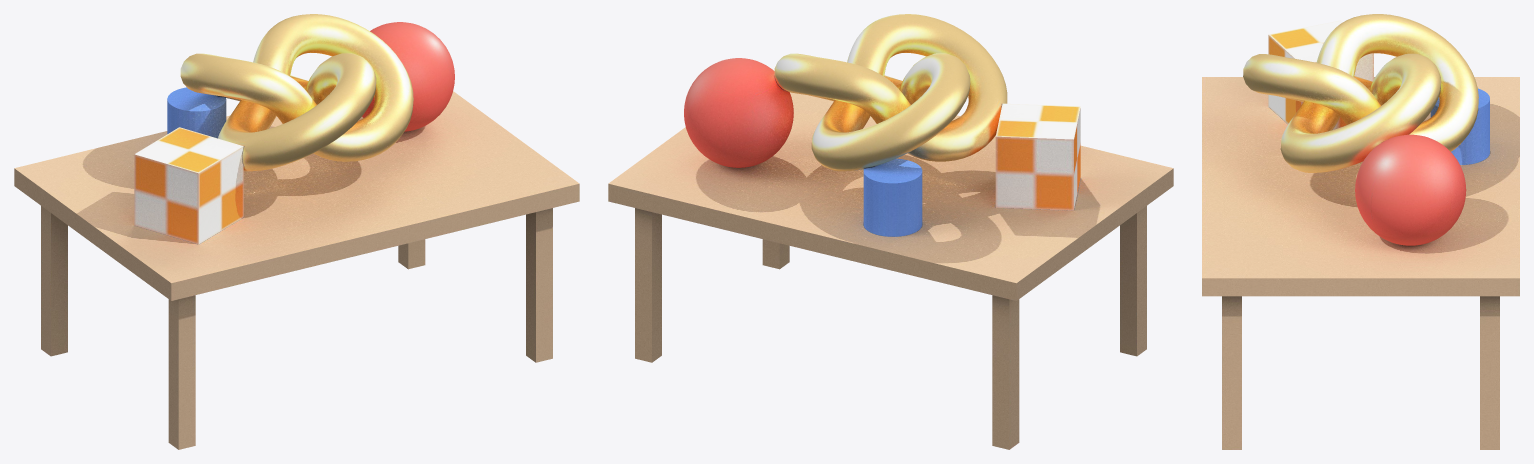
File: table-mitsuba.glb
3 views of the same model, side by side, from view 1: azimuth 30°, elevation 25°; view 2: azimuth 150°, elevation 25°; view 3: azimuth 270°, elevation 25° (orthographic).
Parts seen in each view (by area): view 1: Table_4, TorusKnot_3, CheckerCube_1, Sphere_2, Cylinder_0; view 2: Table_4, TorusKnot_3, Sphere_2, CheckerCube_1, Cylinder_0; view 3: Table_4, TorusKnot_3, Sphere_2, CheckerCube_1, Cylinder_0.
Part boxes in pixels (<box>): Table_4: <box>14,91,579,449</box>; TorusKnot_3: <box>180,14,413,171</box>; CheckerCube_1: <box>134,127,243,244</box>; Sphere_2: <box>362,22,454,131</box>; Cylinder_0: <box>167,87,226,138</box>; Table_4: <box>608,92,1173,449</box>; TorusKnot_3: <box>774,14,1007,171</box>; Sphere_2: <box>684,58,793,167</box>; CheckerCube_1: <box>995,103,1080,210</box>; Cylinder_0: <box>863,158,922,236</box>; Table_4: <box>1202,77,1519,449</box>; TorusKnot_3: <box>1243,14,1478,172</box>; Sphere_2: <box>1355,134,1466,245</box>; CheckerCube_1: <box>1268,20,1373,129</box>; Cylinder_0: <box>1430,88,1489,164</box>.
Size of the model in its own units: 2.4 by 1.72 by 1.6.
Materials: 1 (1 with a texture image).
